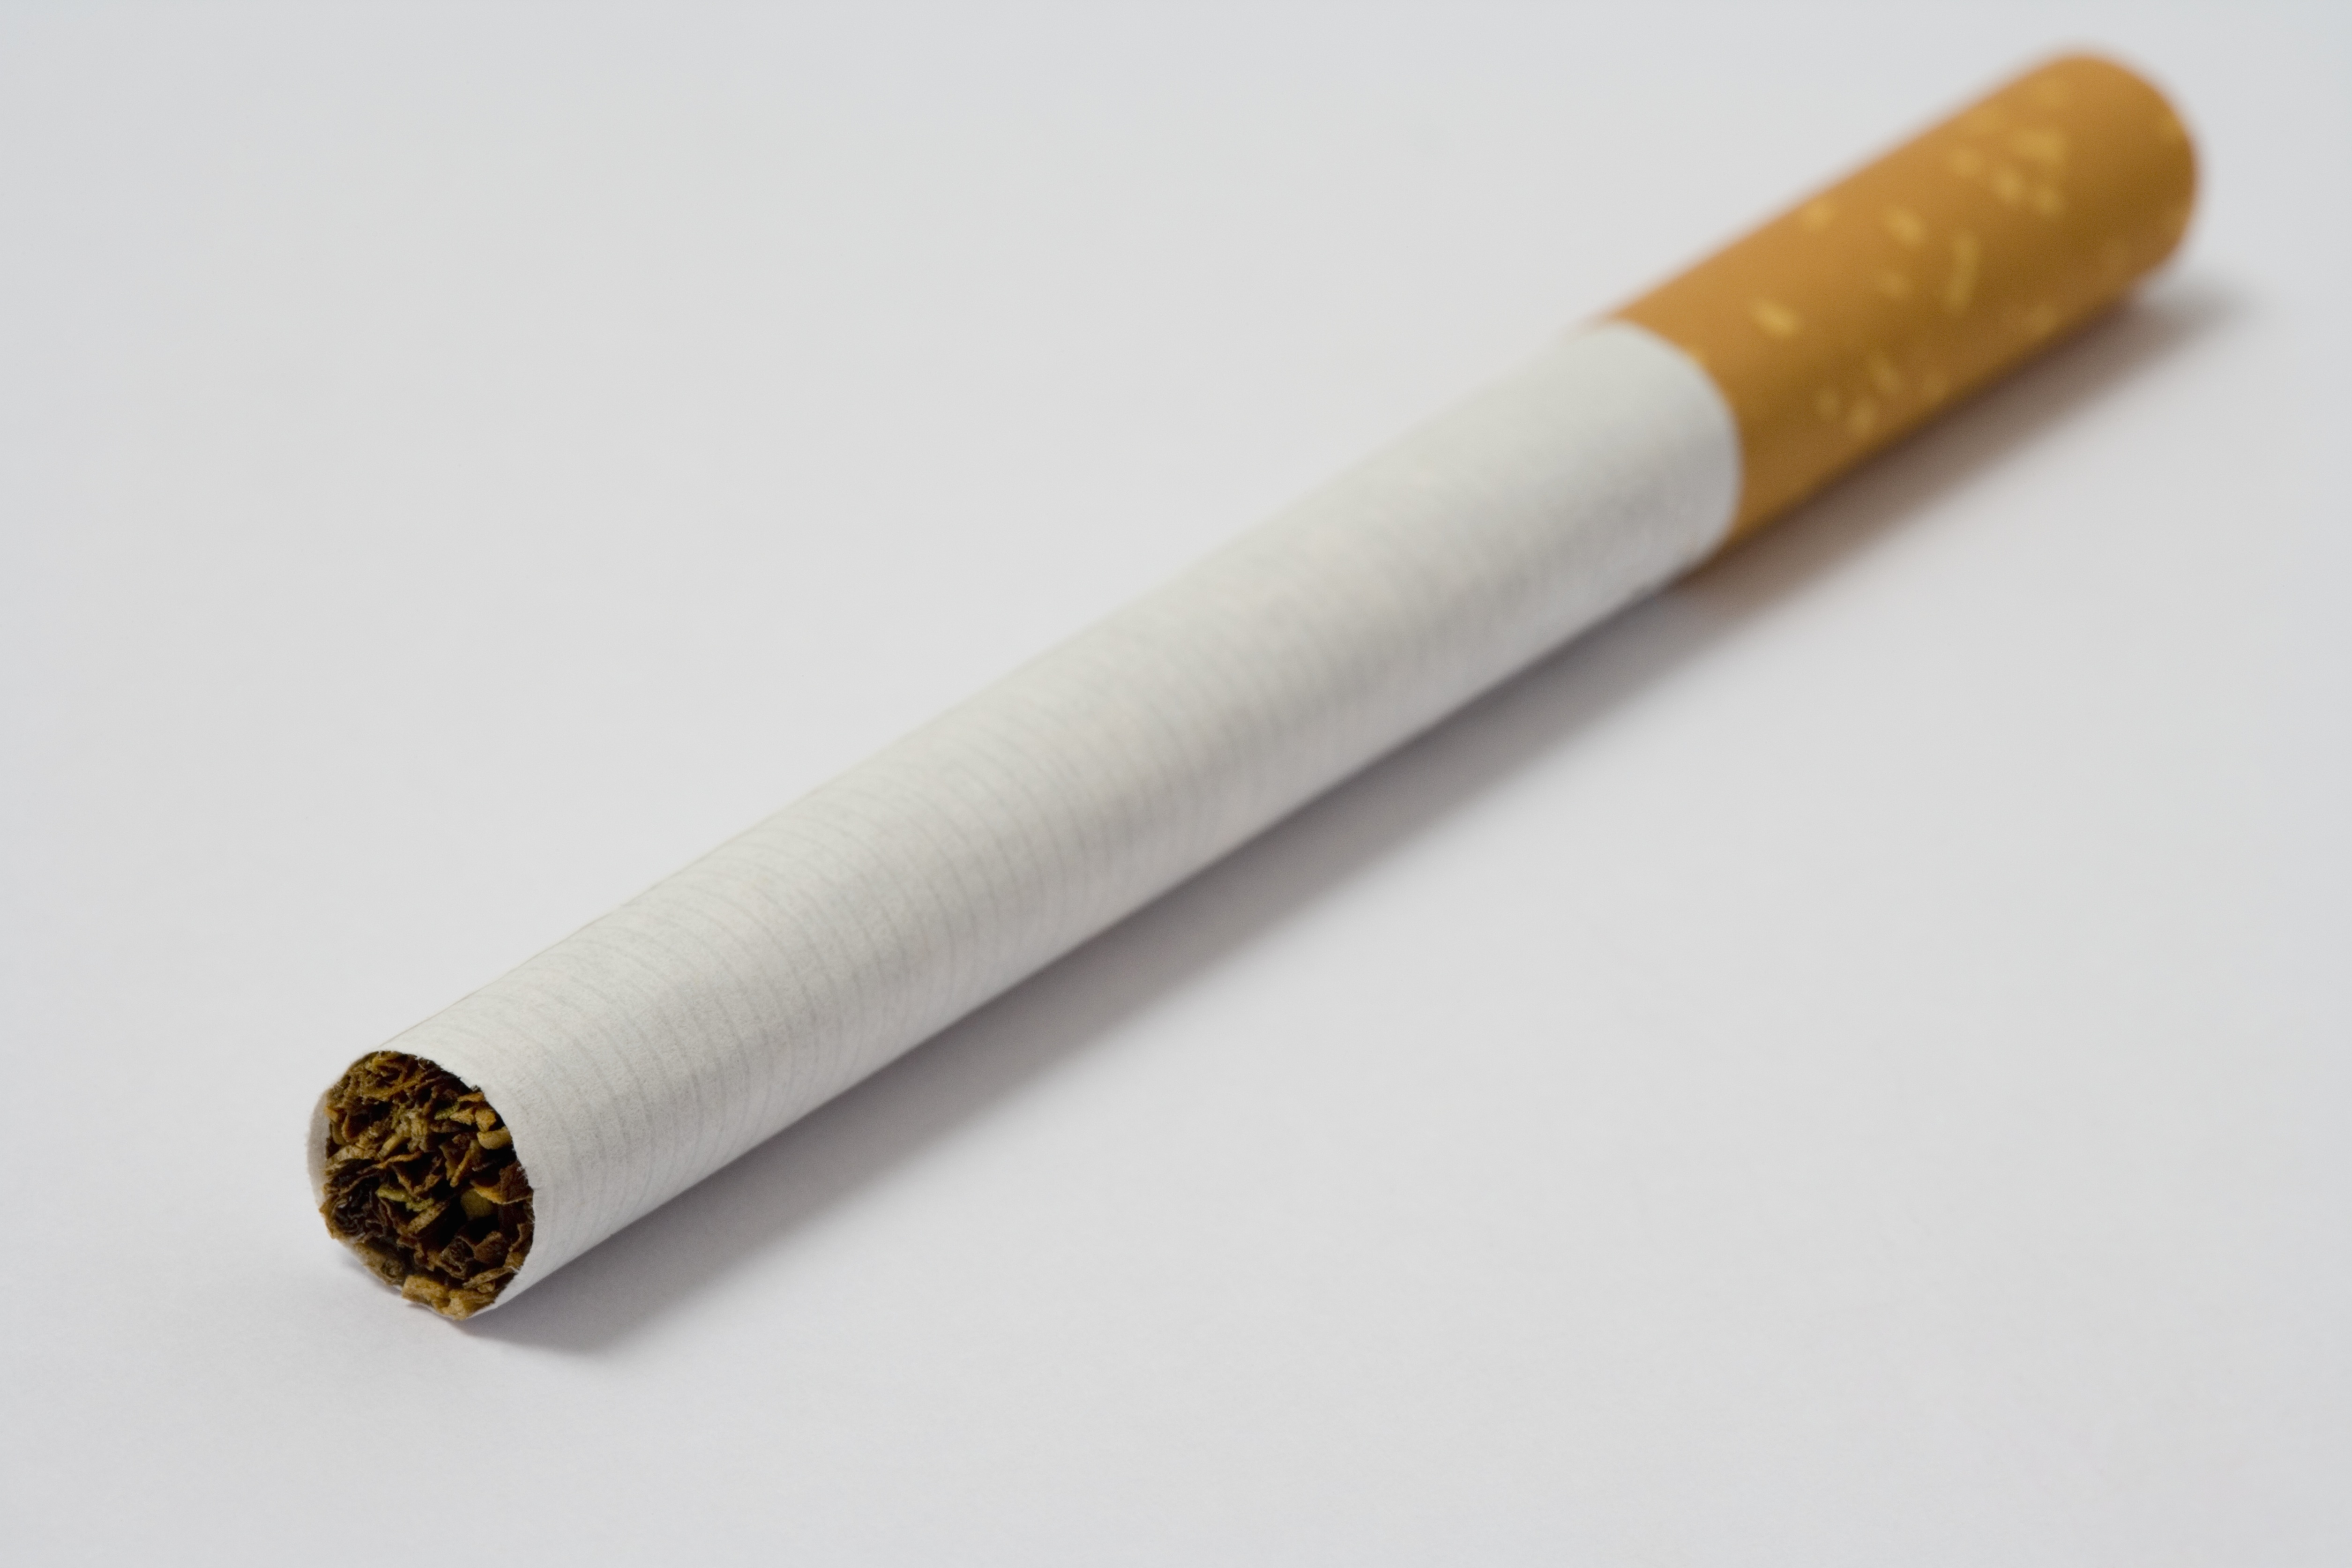cigarette: (276, 19, 2221, 1347)
